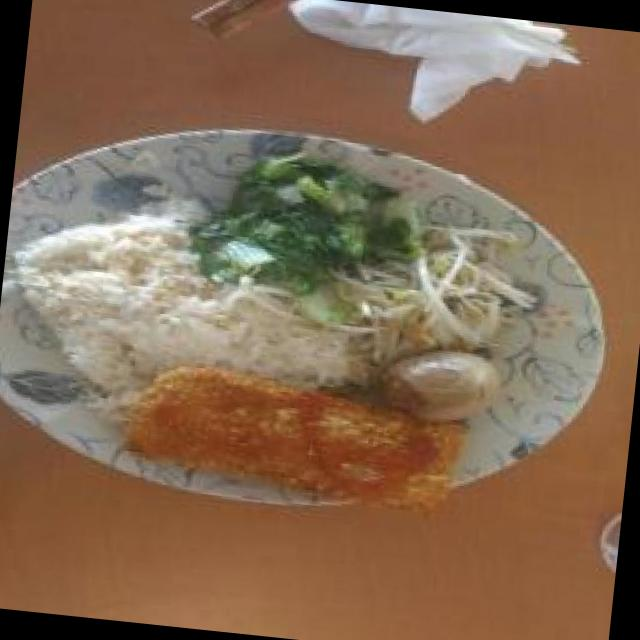mung_bean_sprouts: (364, 242, 505, 344)
rice: (28, 198, 223, 369)
triangle_hash_brown: (166, 366, 450, 504)
